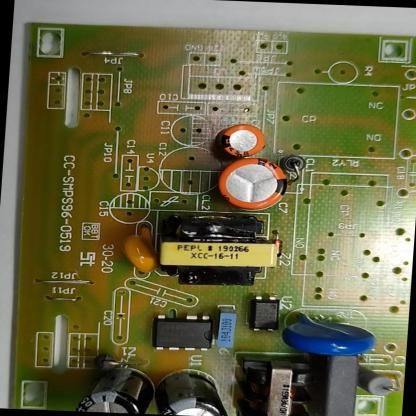Cap1: (215, 154, 290, 214)
Cap2: (214, 121, 268, 163)
Cap3: (152, 368, 236, 416)
Cap4: (72, 361, 159, 414)
MOSFET: (146, 312, 219, 353)
Mov: (275, 310, 382, 361)
Resistor: (352, 366, 397, 399)
Transformer: (147, 208, 284, 290), (229, 350, 318, 416)
